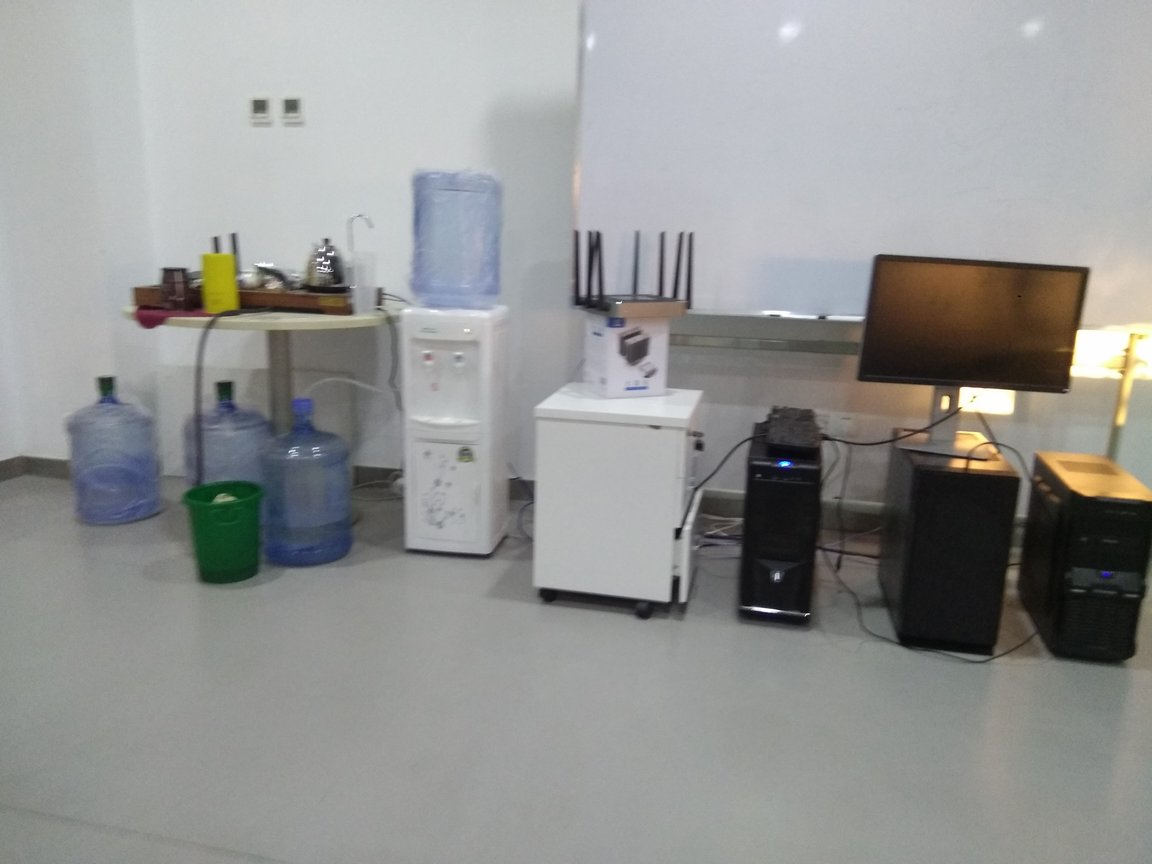computer: (881, 424, 1018, 664), (1029, 442, 1150, 682), (744, 412, 822, 633)
drawer chest: (529, 372, 720, 629)
monitor: (858, 241, 1078, 463)
scuttlebutt: (61, 367, 168, 533), (407, 166, 514, 317), (264, 400, 358, 570), (189, 378, 272, 548)
water dispenser: (397, 299, 511, 560)
